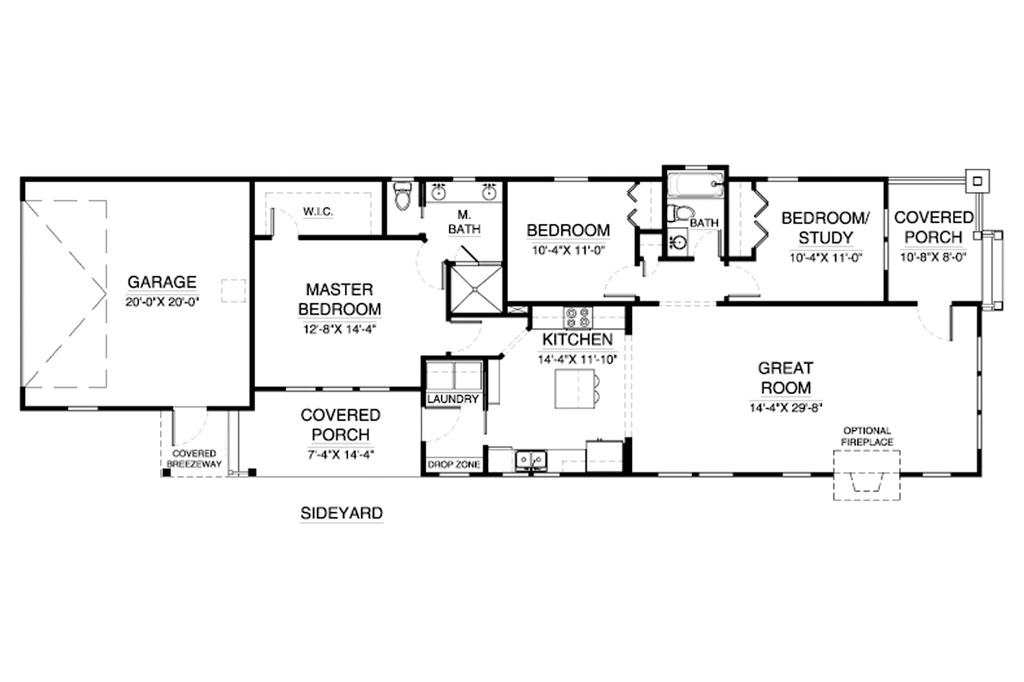door: (911, 290, 966, 343), (413, 232, 447, 294), (603, 262, 647, 306), (723, 262, 765, 308), (444, 313, 482, 361), (260, 203, 299, 242), (689, 223, 722, 262)
kitchen_bar: (553, 352, 610, 425)
large_sink: (383, 174, 417, 217), (655, 192, 693, 223)
small_sink: (418, 173, 502, 206), (666, 224, 689, 260)
tub: (656, 166, 726, 203)
twin_sink: (503, 440, 566, 493)
window: (267, 372, 404, 404), (873, 198, 899, 278), (650, 465, 732, 483), (766, 170, 798, 187), (67, 401, 106, 413)
